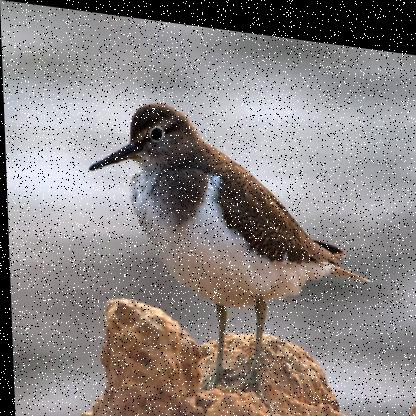Burung: (81, 88, 372, 415)
